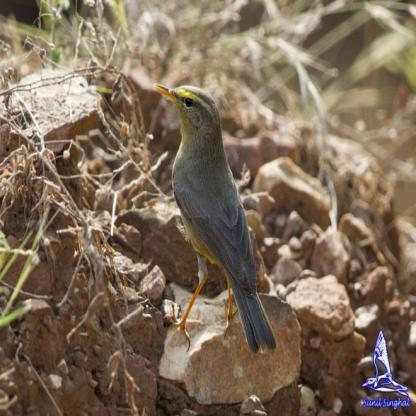Burung: (152, 78, 290, 356)
